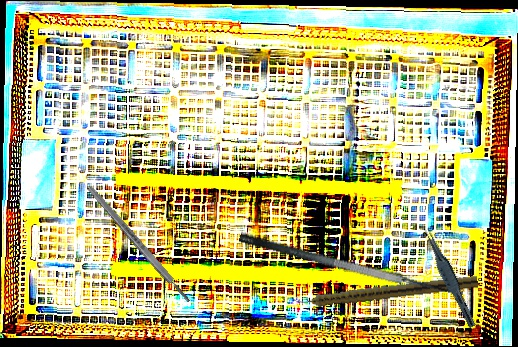Handpiece: (292, 271, 479, 311)
Scalpel Handle: (86, 184, 193, 305)
Spatula Surgical: (238, 212, 468, 307)
Tissue Forceps: (418, 226, 482, 329)
